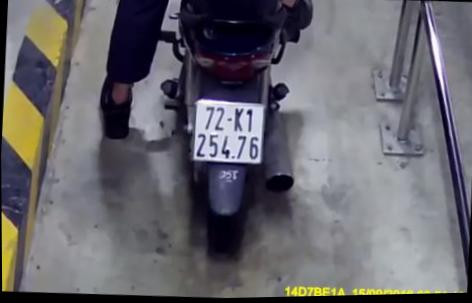LP: (187, 98, 268, 168)
